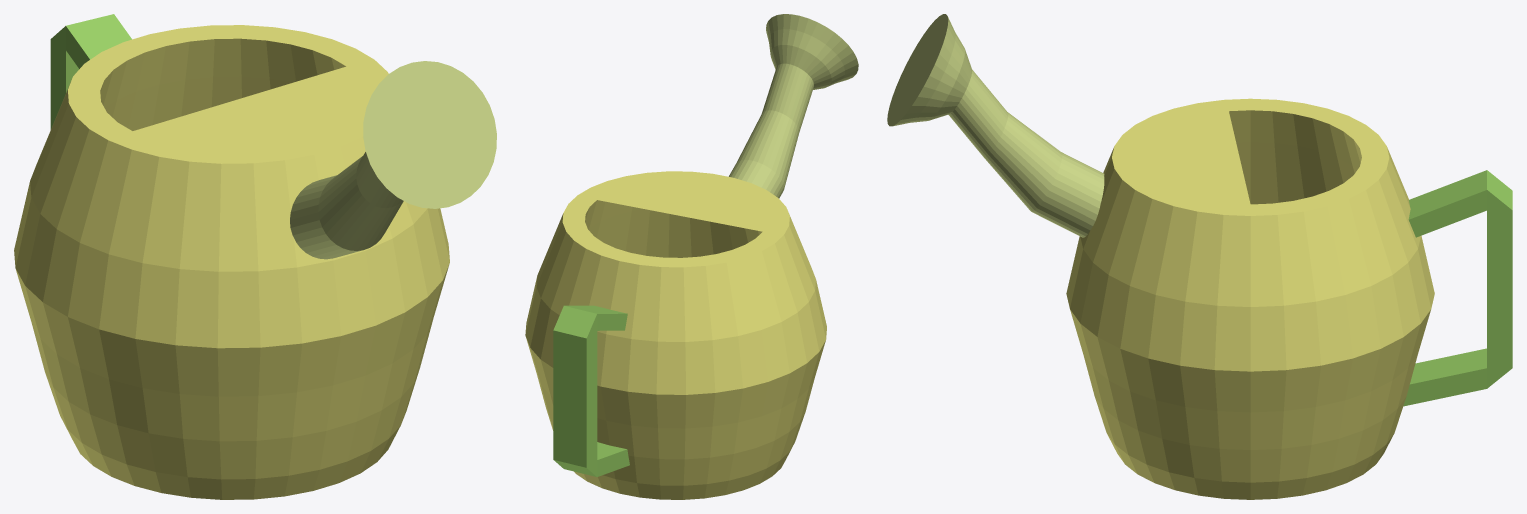
The model's file is waterpot.fbx.
The picture shows the model from 3 angles, left to right: view 1: azimuth 30°, elevation 25°; view 2: azimuth 150°, elevation 25°; view 3: azimuth 270°, elevation 25°; orthographic projection. The views are drawn at different scales.
Parts seen in each view (by area): view 1: Cylinder, Cylinder.001, Cube; view 2: Cylinder, Cylinder.001, Cube; view 3: Cylinder, Cylinder.001, Cube.
Part boxes in pixels (x1,y1,x2,y2): Cylinder: (14, 25, 449, 499); Cylinder.001: (290, 61, 496, 259); Cube: (50, 14, 131, 129); Cylinder: (525, 171, 826, 499); Cylinder.001: (729, 14, 858, 198); Cube: (553, 305, 629, 476); Cylinder: (1066, 98, 1434, 499); Cylinder.001: (887, 14, 1104, 237); Cube: (1403, 170, 1512, 406).
Size of the model in its own units: 422 by 534 by 717.
